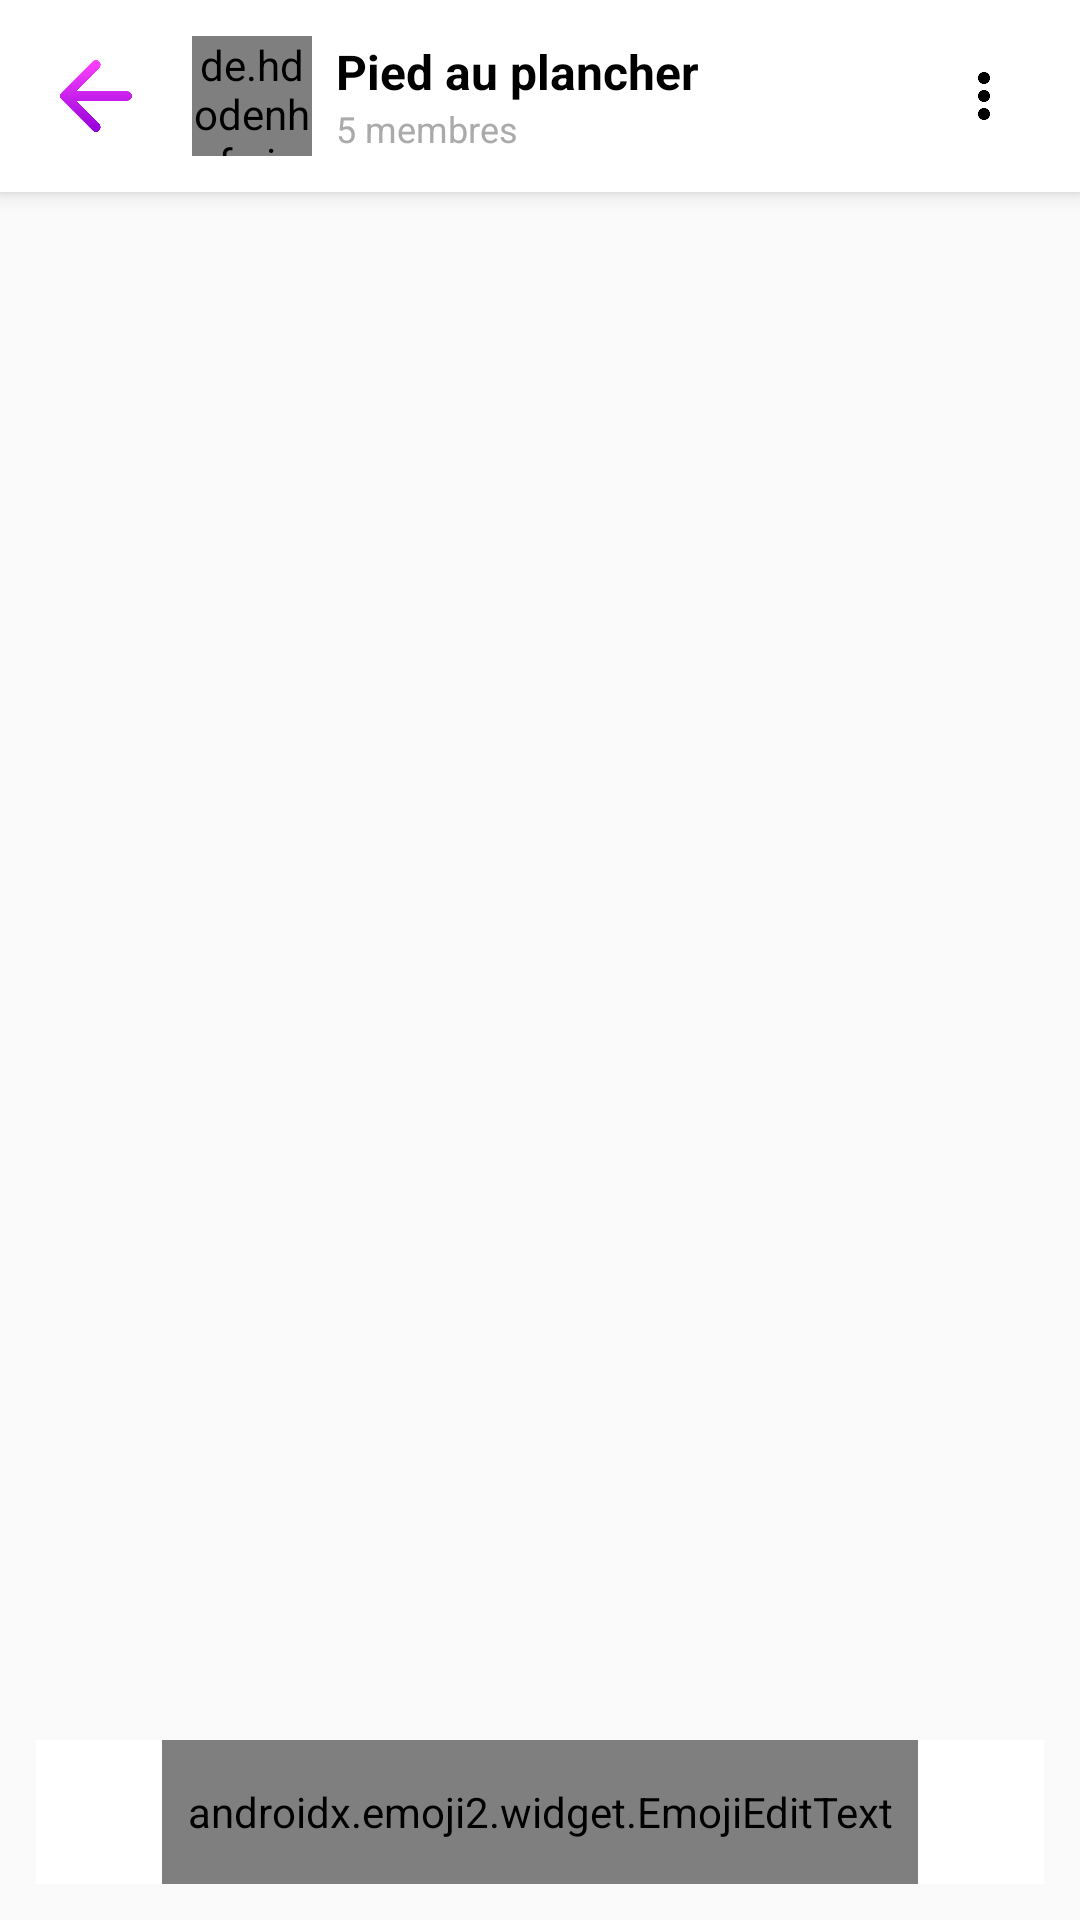

Icons on this 1080px×1920px Android screen, each with the point to tap as [x,y]:
arrow: [96,96]
more vert: [984,96]
